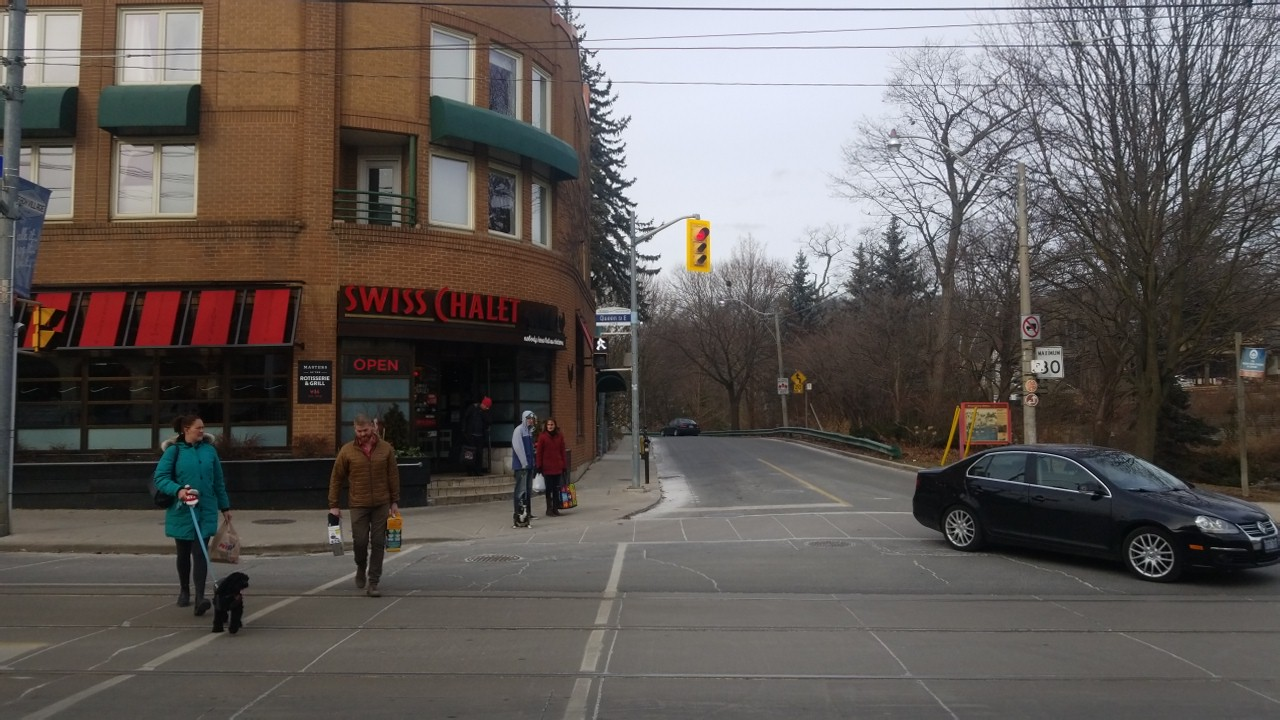light: (591, 334, 613, 375)
